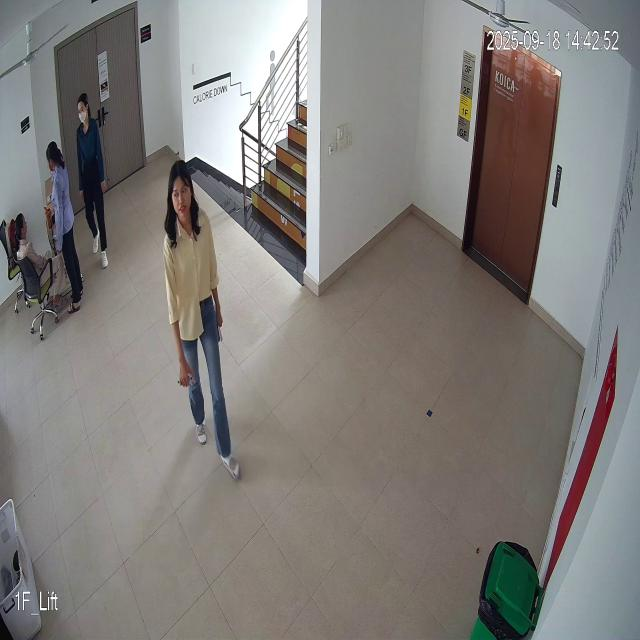face: (168, 158, 193, 221)
